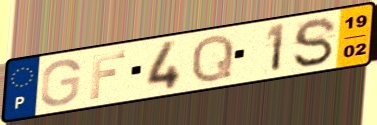1: (264, 21, 287, 76)
4: (144, 38, 184, 92)
F: (88, 49, 128, 101)
G: (38, 57, 83, 108)
Q: (189, 32, 237, 85)
S: (291, 16, 339, 70)
